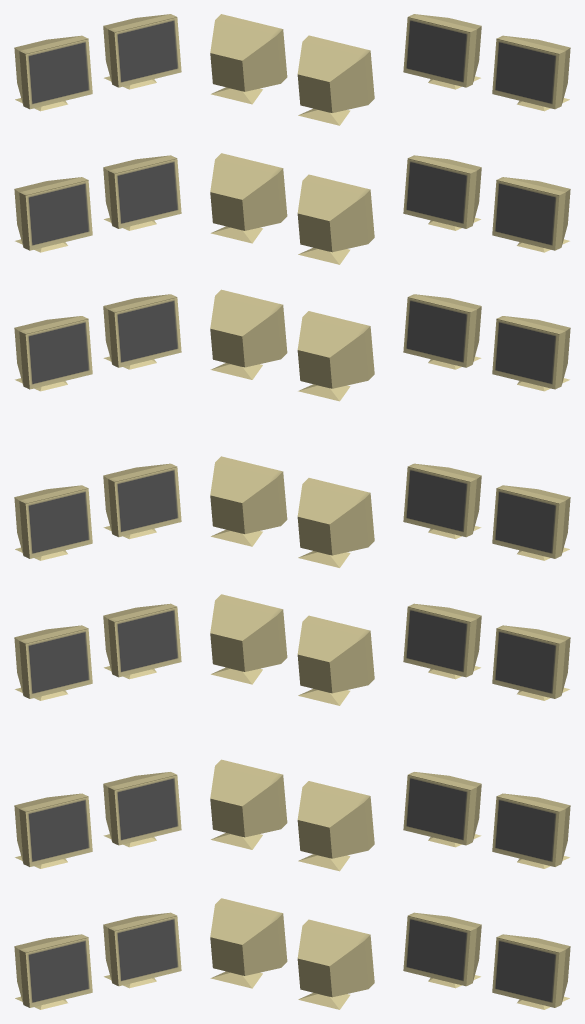
Rendered from Old_Monitors.fbx.
The picture shows the model from 3 angles, left to right: view 1: azimuth 30°, elevation 25°; view 2: azimuth 150°, elevation 25°; view 3: azimuth 330°, elevation 25°; orthographic projection.
Visible parts, largest first — view 1: Old_Monitors; view 2: Old_Monitors; view 3: Old_Monitors.
Part boxes in pixels (x1,y1,x2,y2): Old_Monitors: (14,14,181,1009); Old_Monitors: (210,14,374,1009); Old_Monitors: (403,14,570,1009).
Size of the model in its own units: 1.26 by 7.64 by 0.4415.
